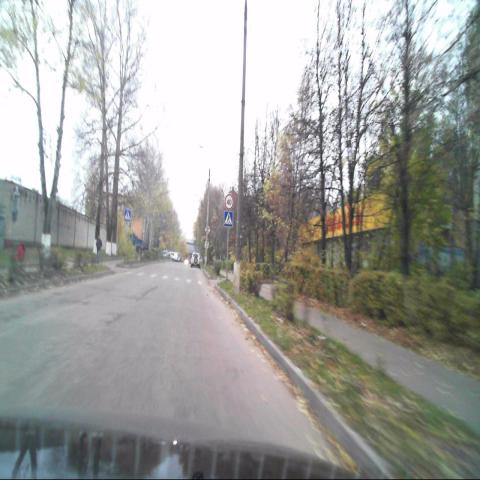5_19_1: (224, 211, 232, 226), (124, 210, 131, 221)
